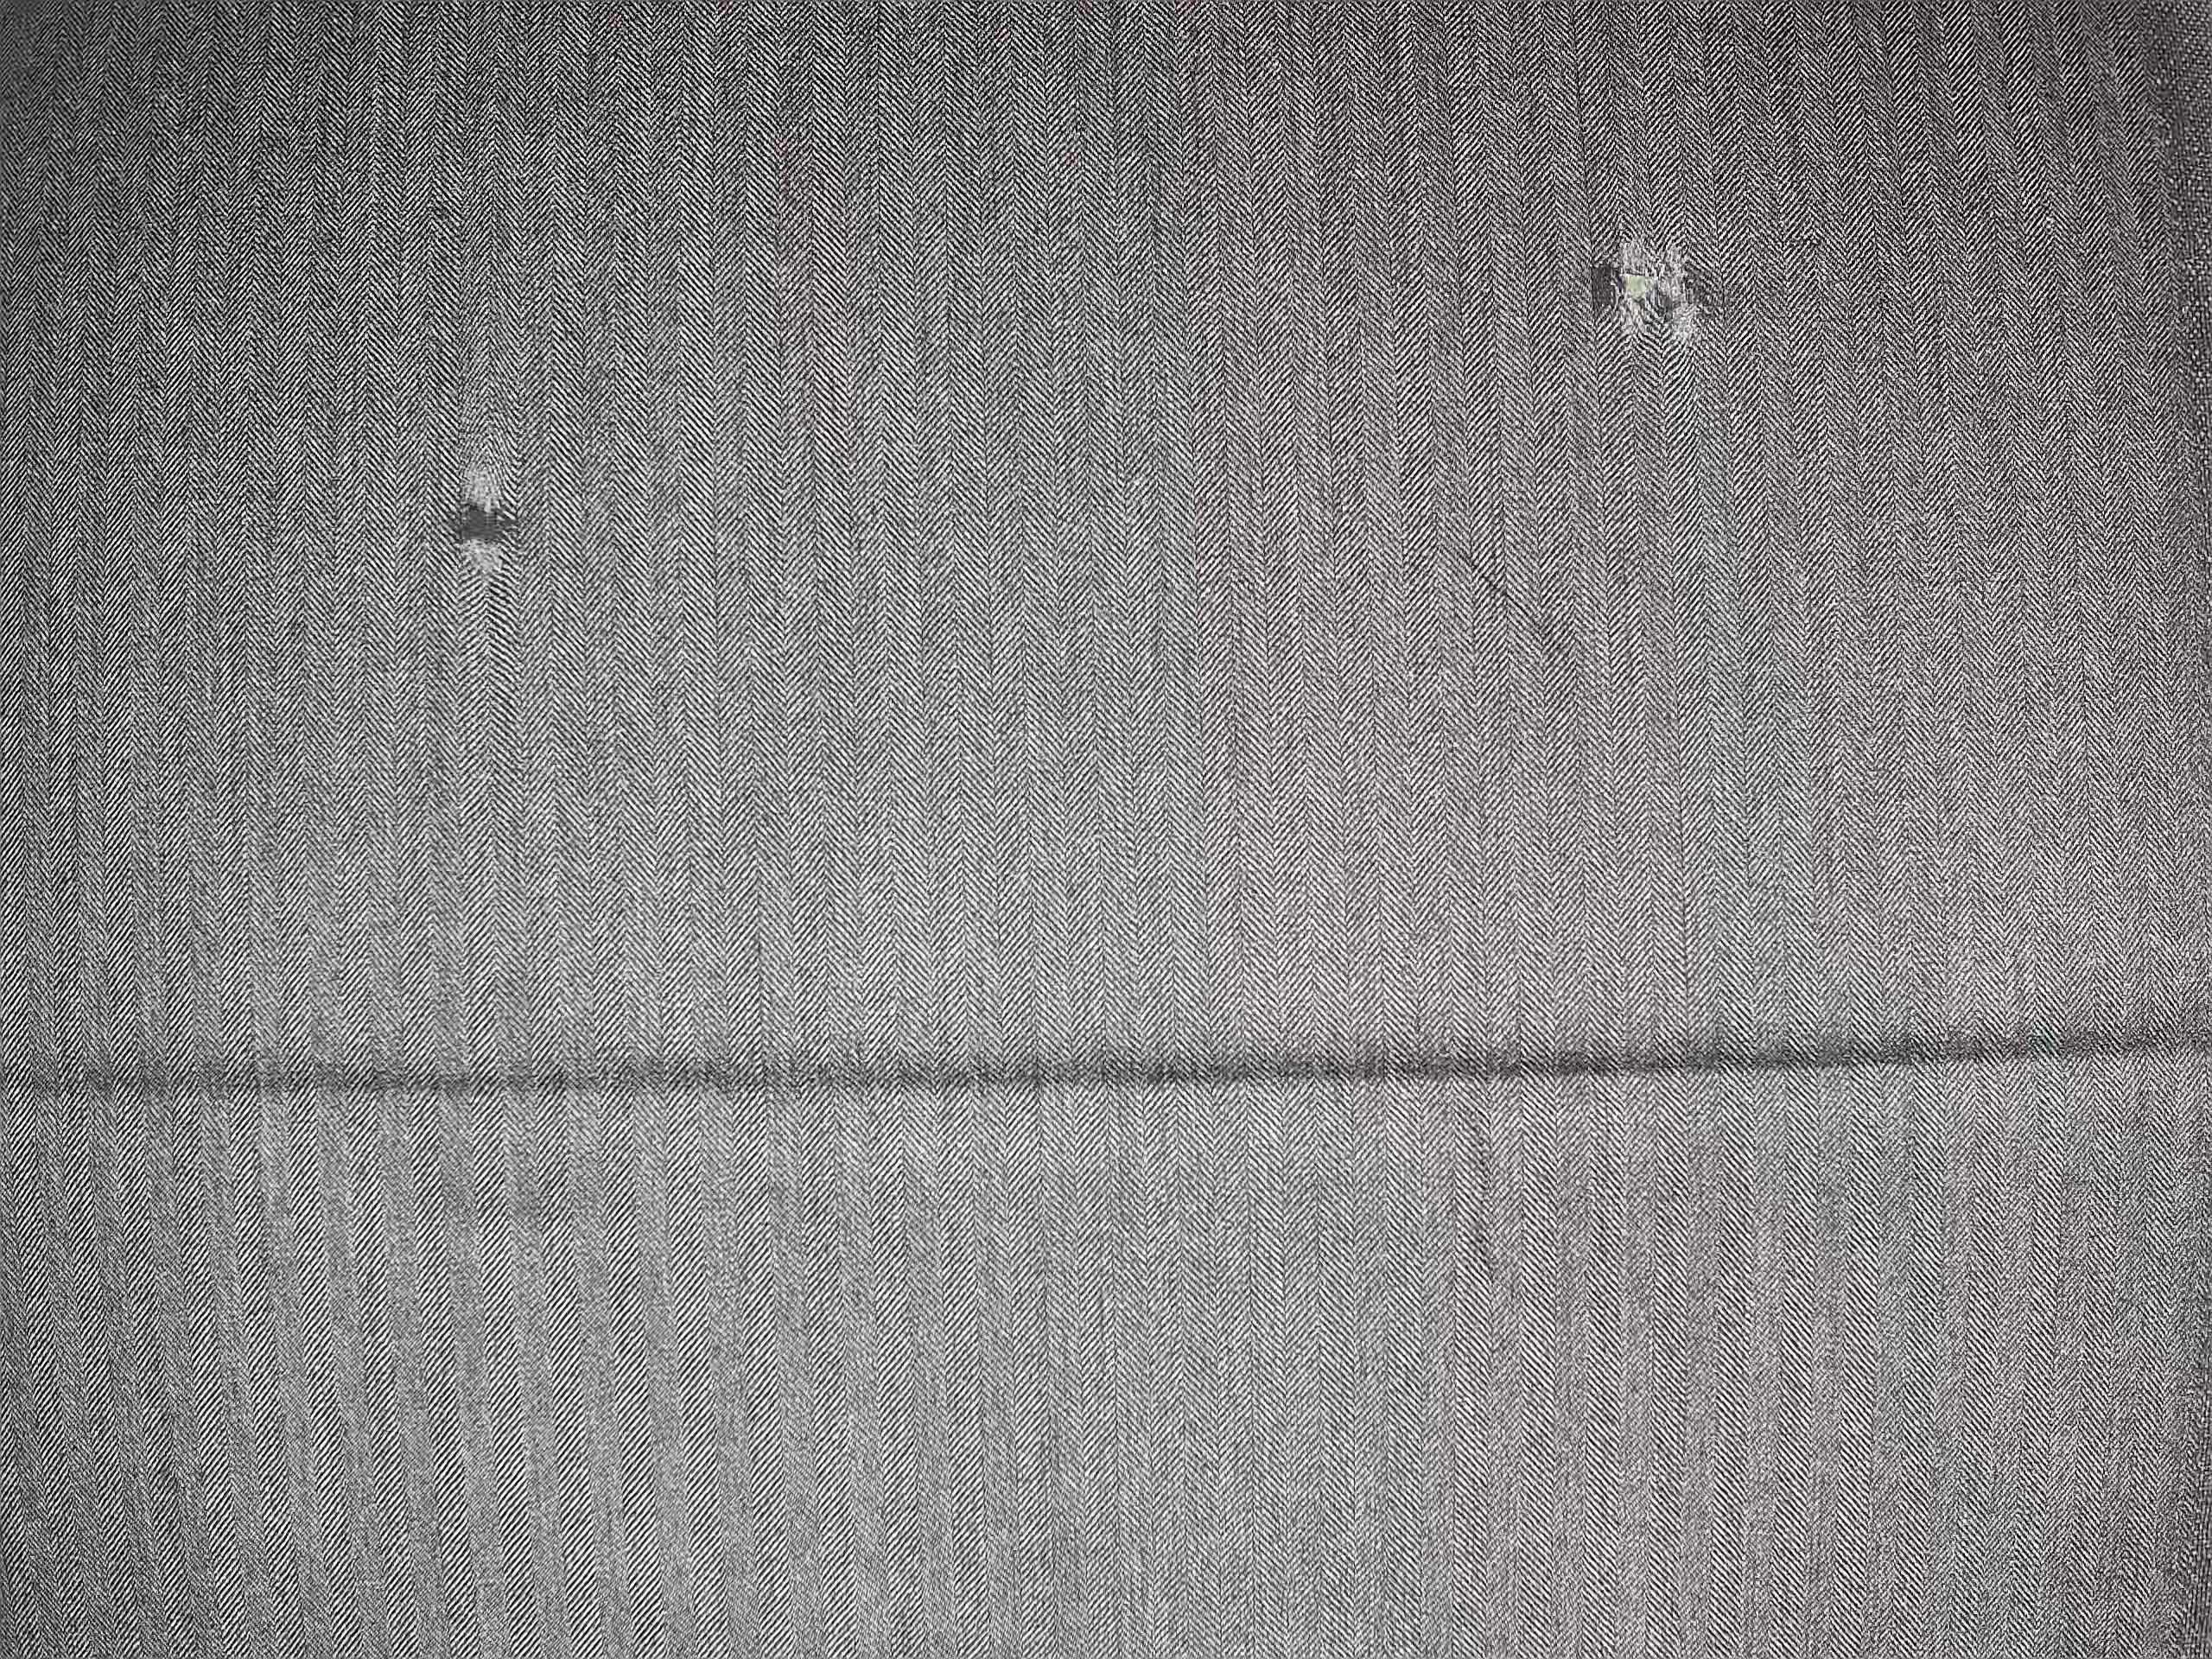rubbing-hole: (1568, 218, 1742, 361), (434, 448, 543, 584)
